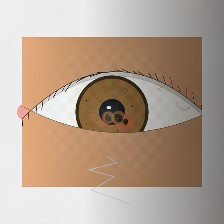foreign_body_visible: (110, 109, 141, 134)
